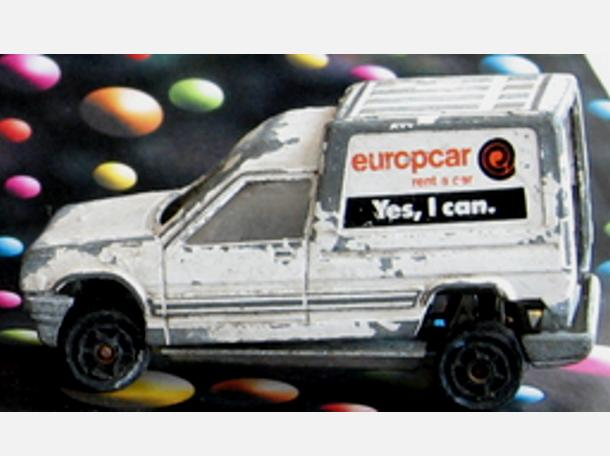toy-car: (15, 71, 604, 412)
